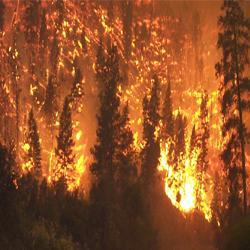fire: (170, 156, 203, 208), (72, 142, 94, 188)
